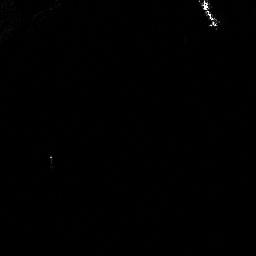ship: (197, 1, 224, 31)
